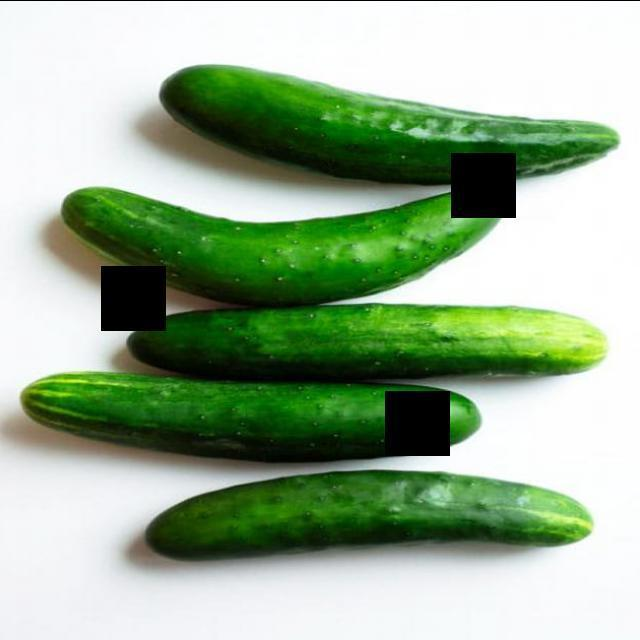cucumber: (153, 50, 629, 180), (56, 185, 506, 302), (140, 464, 600, 565), (13, 368, 487, 464), (120, 302, 614, 382)
